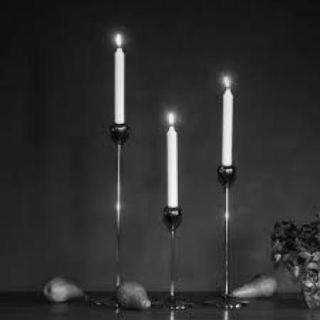Fire: (220, 67, 237, 93), (163, 108, 177, 128), (112, 32, 124, 50)
